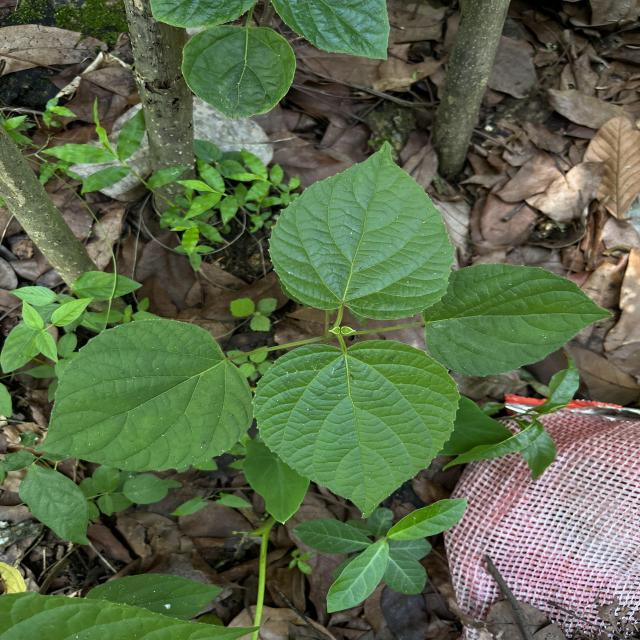Clerodendrum infortunatum: (250, 337, 462, 521), (266, 140, 457, 322), (33, 317, 254, 473), (422, 262, 616, 379)
